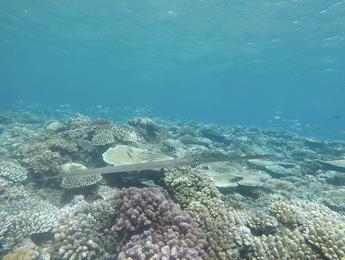Fistularia commersonii: (25, 144, 288, 184)
